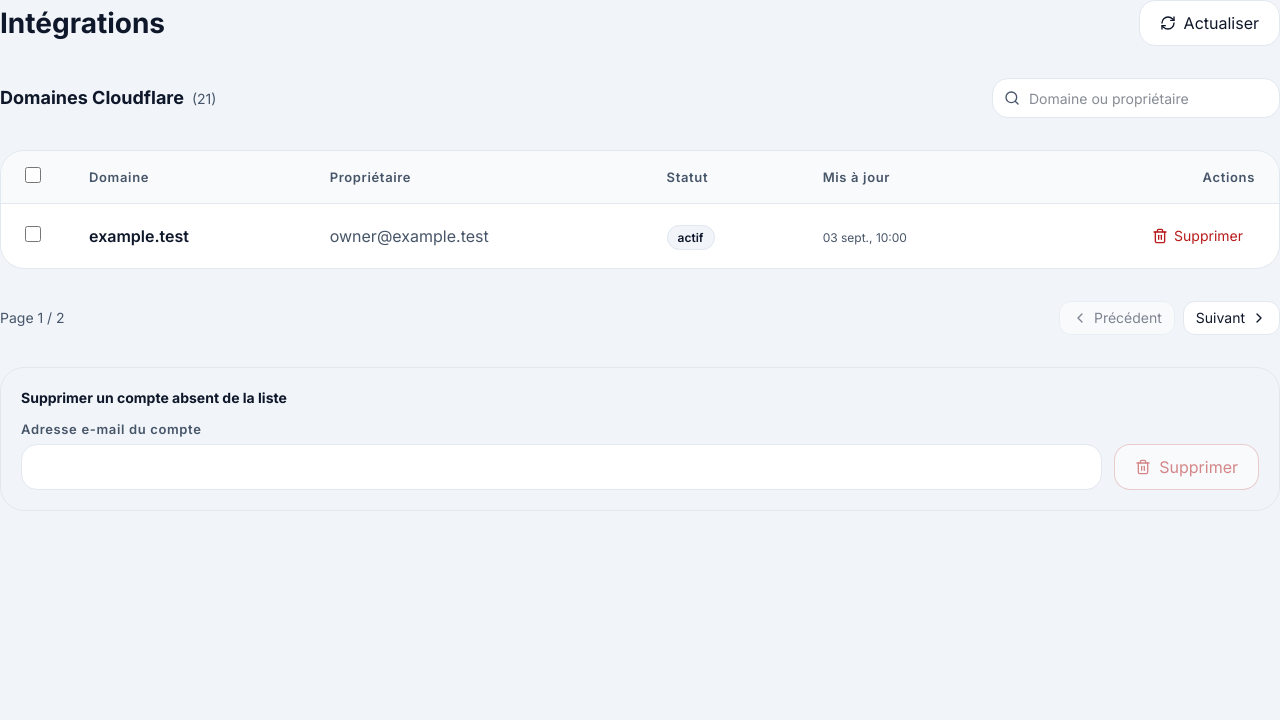
account erasure from the console › shows each refusal in French with the account it concerns
This screenshot has width=1280, height=720.
Click the button with aria-label "Supprimer le compte owner@example.test" at (1198, 236), box [1140,220,1255,252]
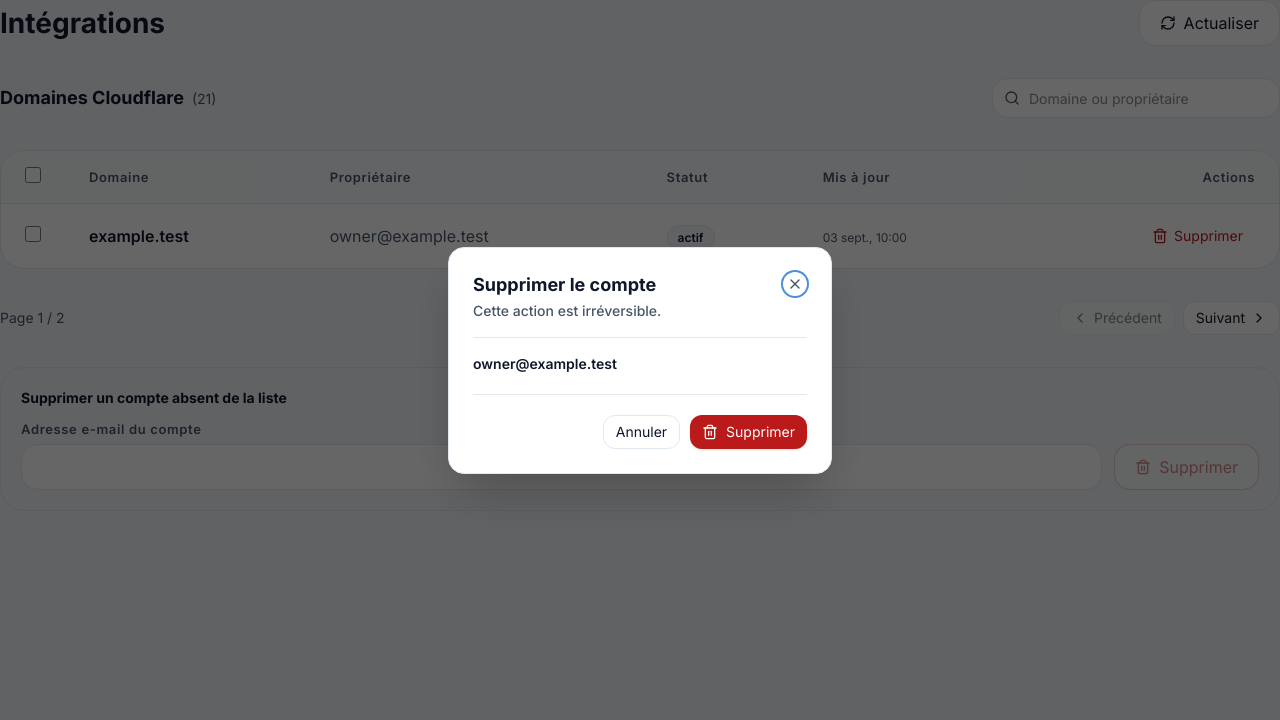
Click the button "Supprimer" at (749, 432), box [690,414,807,448]
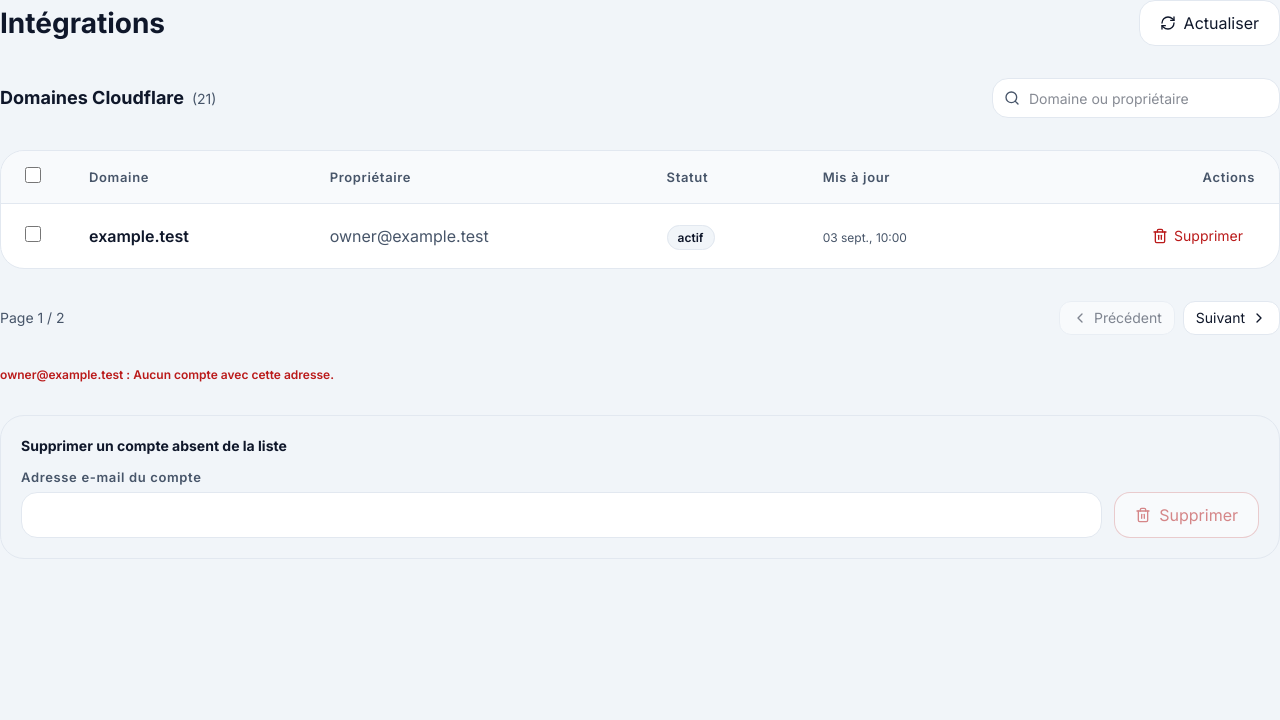
Result: the message reads "owner@example.test : Aucun compte avec cette adresse." at [0,367,334,382]
Click the button with aria-label "Supprimer le compte owner@example.test" at (1198, 236), box [1140,220,1255,252]
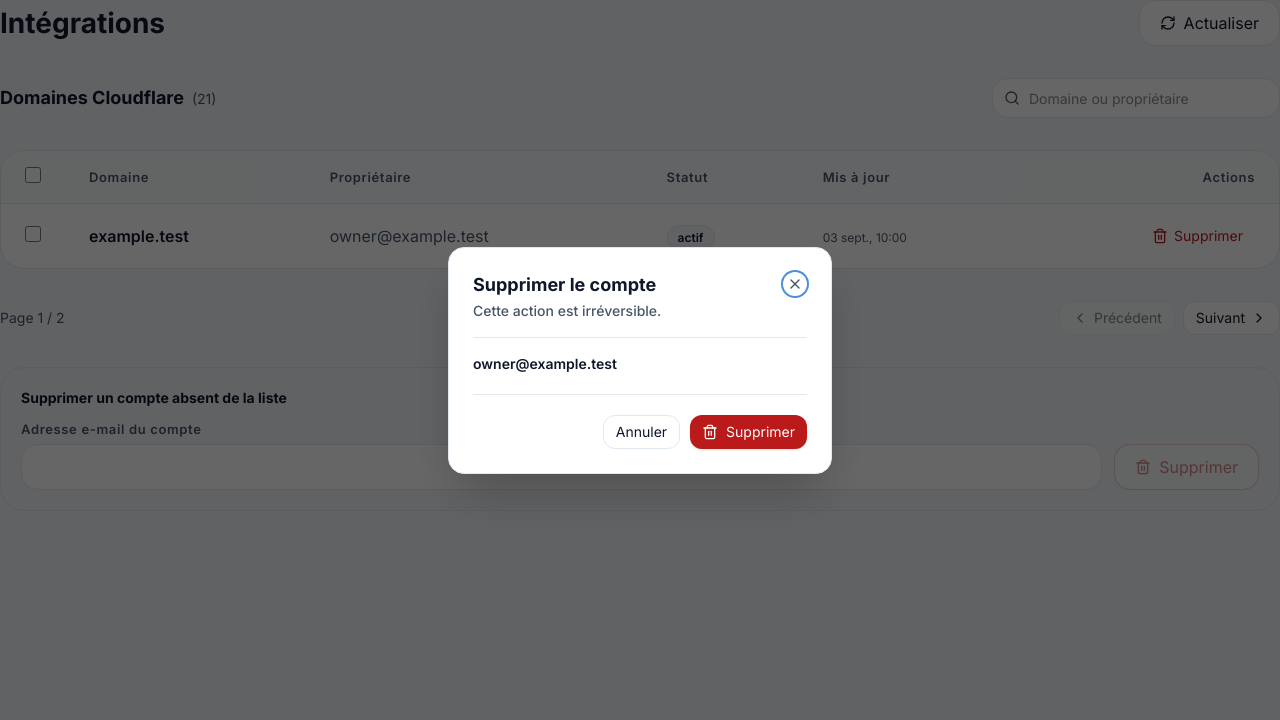
Click the button "Supprimer" at (749, 432), box [690,414,807,448]
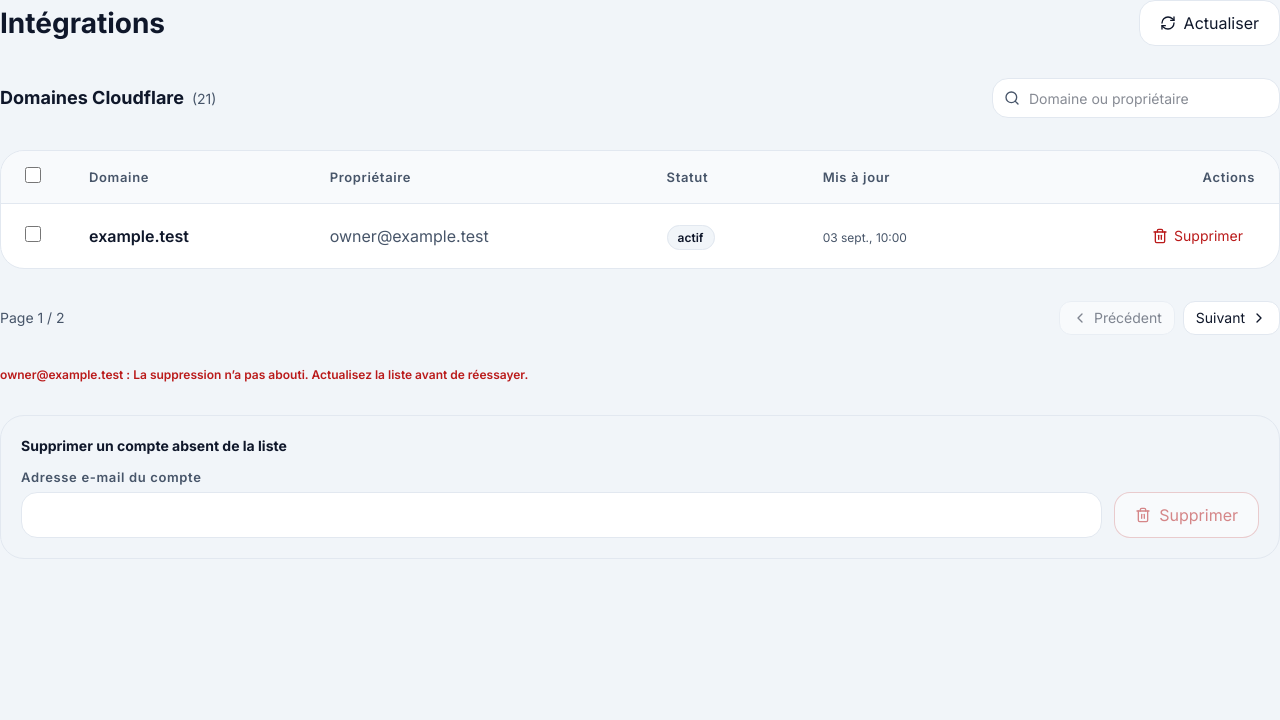
Result: the message shows "La suppression n’a pas abouti." at [133,367,528,382]
